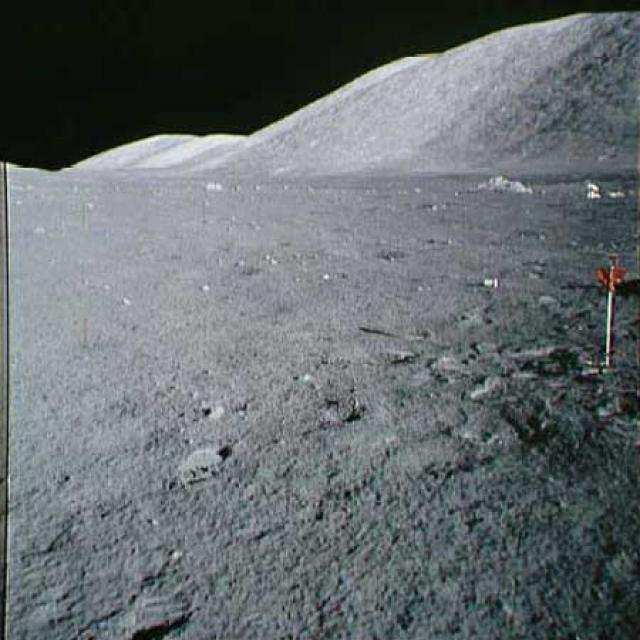artifact: (586, 247, 631, 367)
rock: (459, 171, 531, 199), (200, 178, 225, 195)
